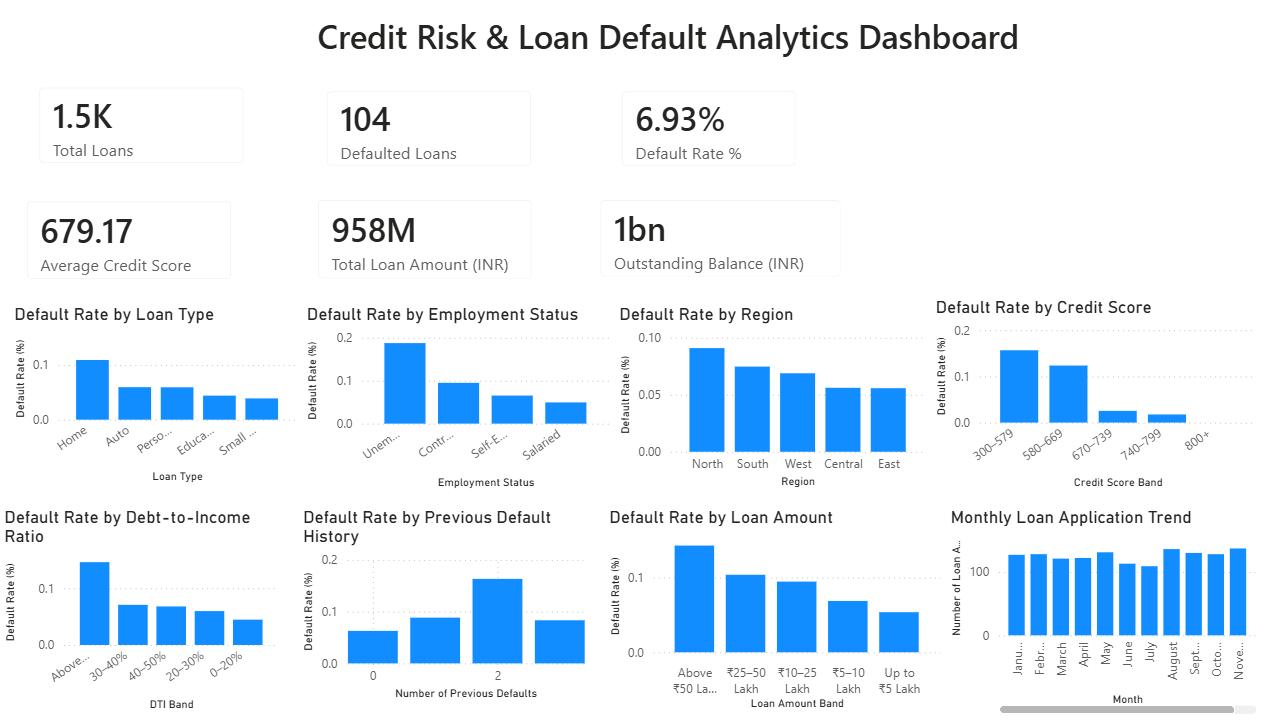

This screenshot's page, from the dashboard's own definition file:
{"tool":"powerbi","page":{"name":"Page 1","canvas":[1280,720],"ordinal":0},"visuals":[{"type":"cardVisual","fields":{"Data":["CountNonNull(Cleaned_Loan_Data.Borrower_ID)"]},"box":[44,74.6,234.8,108.8],"z":0},{"type":"cardVisual","fields":{"Data":["Sum(Cleaned_Loan_Data.Default_Flag)"]},"box":[325.3,78.3,234.8,107.6],"z":1000},{"type":"cardVisual","fields":{"Data":["Cleaned_Loan_Data.Default Rate %"]},"box":[613.9,78.3,204.2,107.6],"z":2000},{"type":"cardVisual","fields":{"Data":["Avg(Cleaned_Loan_Data.Credit_Score)"]},"box":[31.8,185.9,234.8,110.1],"z":3000},{"type":"cardVisual","fields":{"Data":["Sum(Cleaned_Loan_Data.Loan_Amount_INR)"]},"box":[593.3,184.6,269.5,109.9],"z":4000},{"type":"clusteredColumnChart","title":"Default Rate by Loan Type","fields":{"Category":["Cleaned_Loan_Data.Loan_Type"],"Y":["Avg(Cleaned_Loan_Data.Default_Flag)"]},"box":[32.2,303.2,285.6,180.2],"z":6000},{"type":"clusteredColumnChart","title":"Default Rate by Employment Status","fields":{"Category":["Cleaned_Loan_Data.Employment_Status"],"Y":["Avg(Cleaned_Loan_Data.Default_Flag)"]},"box":[317.9,303.2,306.2,186],"z":7000},{"type":"clusteredColumnChart","title":"Default Rate by Region","fields":{"Category":["Cleaned_Loan_Data.Region"],"Y":["Avg(Cleaned_Loan_Data.Default_Flag)"]},"box":[624,303.2,309.1,184.6],"z":8000},{"type":"clusteredColumnChart","title":"Default Rate by Credit Score","fields":{"Y":["Avg(Cleaned_Loan_Data.Default_Flag)"],"Category":["Cleaned_Loan_Data.Credit Score Band"]},"box":[933.1,295.9,323.7,193.4],"z":9000},{"type":"clusteredColumnChart","title":"Default Rate by Debt-to-Income Ratio","fields":{"Y":["Avg(Cleaned_Loan_Data.Default_Flag)"],"Category":["Cleaned_Loan_Data.DTI Band"]},"box":[22,500.9,278.6,204.5],"z":10000},{"type":"clusteredColumnChart","title":"Default Rate by Previous Default History","fields":{"Category":["Cleaned_Loan_Data.Previous_Default_Count"],"Y":["Avg(Cleaned_Loan_Data.Default_Flag)"]},"box":[314.7,500.9,285.4,193.5],"z":11000},{"type":"clusteredColumnChart","title":"Default Rate by Loan Amount","fields":{"Y":["Avg(Cleaned_Loan_Data.Default_Flag)"],"Category":["Cleaned_Loan_Data.Loan Amount Band"]},"box":[613.8,501,334,203.6],"z":12000},{"type":"clusteredColumnChart","title":"Monthly Loan Application Trend","fields":{"Y":["CountNonNull(Cleaned_Loan_Data.Borrower_ID)"],"Category":["Cleaned_Loan_Data.Application_Date.Variation.Date Hierarchy.Month"]},"box":[947.8,501,309.1,208],"z":13000},{"type":"cardVisual","fields":{"Data":["Sum(Cleaned_Loan_Data.Outstanding_Balance_INR)"]},"box":[317.1,184.6,243.2,111.3],"z":13001},{"type":"textbox","box":[284.2,14.6,785.2,52.7],"z":13002}]}

Visuals, with their boxes in screenshot pixels (x1, y1, x2, y2), scaled from the page's 1280x720 canvas onto the 1277x722 screenshot:
cardVisual - CountNonNull(Cleaned_Loan_Data.Borrower_ID): box(44, 75, 278, 184)
cardVisual - Sum(Cleaned_Loan_Data.Default_Flag): box(325, 79, 559, 186)
cardVisual - Cleaned_Loan_Data.Default Rate %: box(612, 79, 816, 186)
cardVisual - Avg(Cleaned_Loan_Data.Credit_Score): box(32, 186, 266, 297)
cardVisual - Sum(Cleaned_Loan_Data.Loan_Amount_INR): box(592, 185, 861, 295)
"Default Rate by Loan Type" clusteredColumnChart: box(32, 304, 317, 485)
"Default Rate by Employment Status" clusteredColumnChart: box(317, 304, 623, 491)
"Default Rate by Region" clusteredColumnChart: box(623, 304, 931, 489)
"Default Rate by Credit Score" clusteredColumnChart: box(931, 297, 1254, 491)
"Default Rate by Debt-to-Income Ratio" clusteredColumnChart: box(22, 502, 300, 707)
"Default Rate by Previous Default History" clusteredColumnChart: box(314, 502, 599, 696)
"Default Rate by Loan Amount" clusteredColumnChart: box(612, 502, 946, 707)
"Monthly Loan Application Trend" clusteredColumnChart: box(946, 502, 1254, 711)
cardVisual - Sum(Cleaned_Loan_Data.Outstanding_Balance_INR): box(316, 185, 559, 297)
textbox: box(284, 15, 1067, 67)
